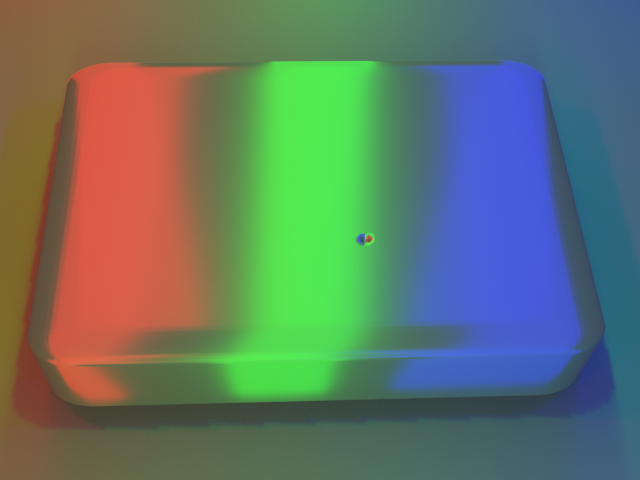dent: (350, 219, 388, 261)
